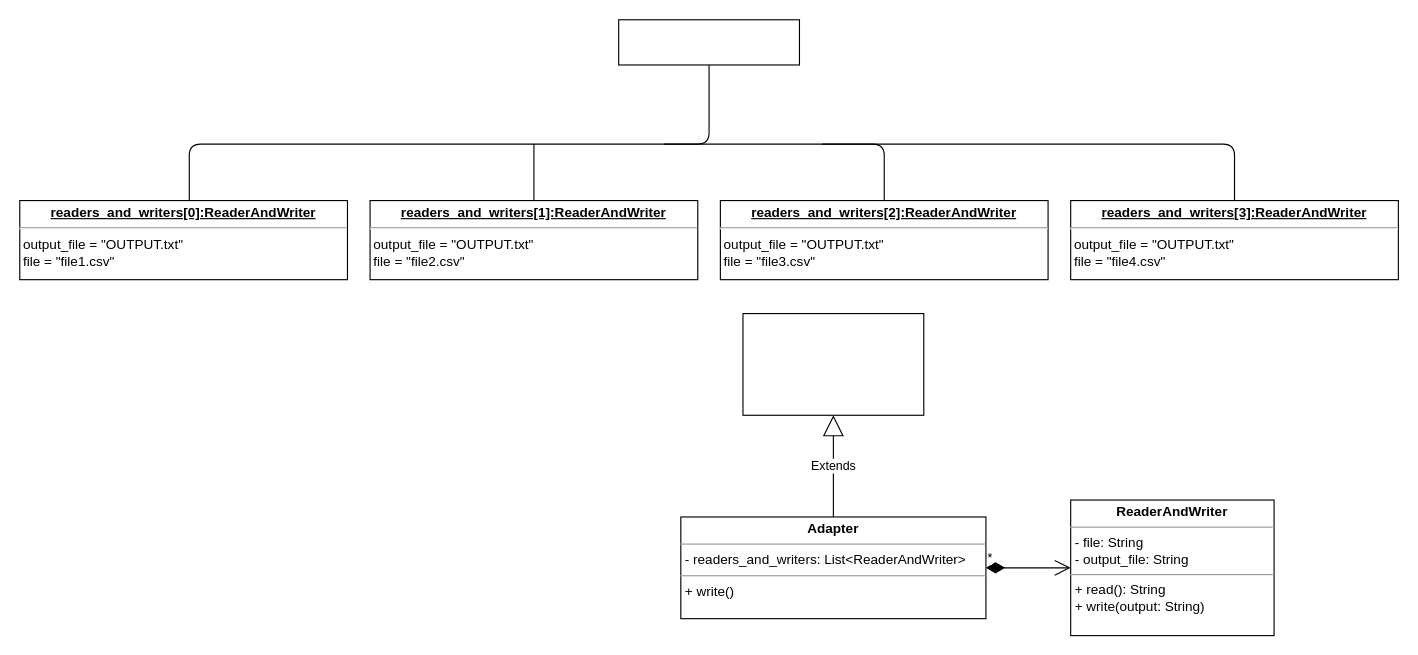
The diagram is 1418 pixels wide and 655 high, and some of its shapes have lost their labels. Here are the shapes that lost their labels. From the top down, the box of each, then its label:
(618, 19, 799, 65): adapter:Adapter
(742, 312, 924, 415): ConcurrentFileWriter # lock: ReentrantLock + write()
